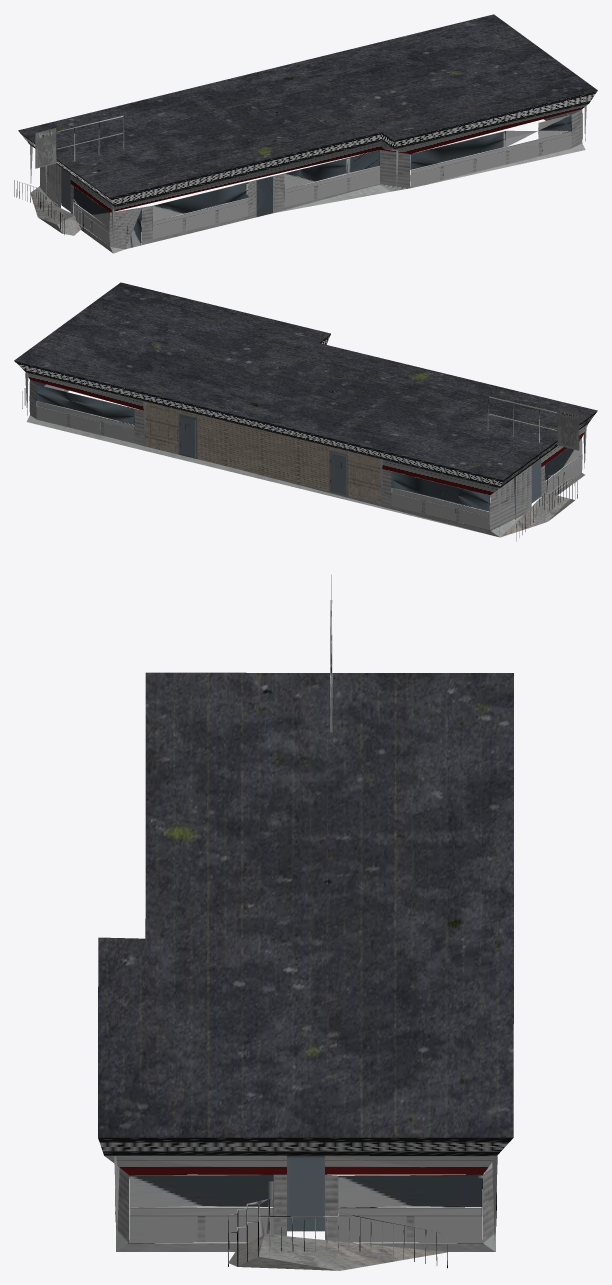
The model's file is strip_diner_lod1.glb.
3 views of the same model, one above another, from view 1: azimuth 30°, elevation 25°; view 2: azimuth 150°, elevation 25°; view 3: azimuth 270°, elevation 25° (orthographic). The views are drawn at different scales.
Parts seen in each view (by area): view 1: strip_diner; view 2: strip_diner; view 3: strip_diner.
Boxes of the visible parts, <box> form: strip_diner: <box>14,14,597,253</box>; strip_diner: <box>14,282,597,541</box>; strip_diner: <box>98,575,513,1270</box>.
Size of the model in its own units: 31.44 by 5.8 by 10.95.
1 material, 1 textured.
